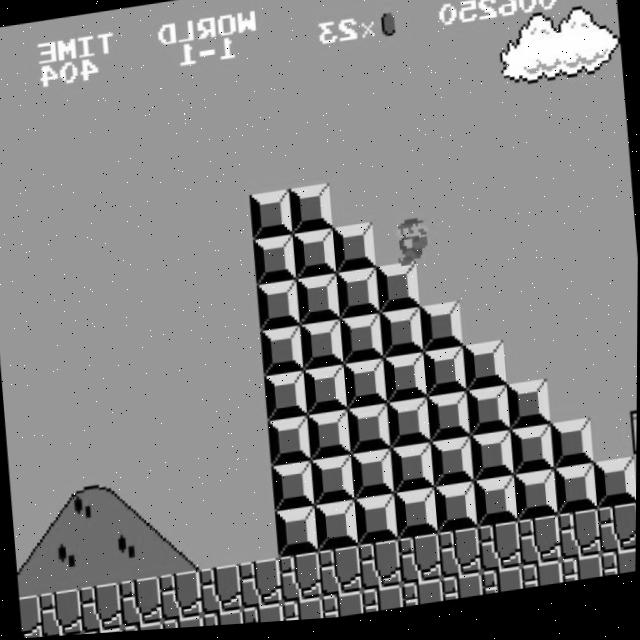11- little_mario: (392, 217, 439, 273)
15- pipe_head: (630, 417, 637, 466)
17- undestructible_block: (477, 527, 523, 579), (158, 572, 204, 624), (437, 533, 483, 584), (397, 539, 443, 590), (198, 567, 244, 618), (118, 578, 164, 629), (557, 516, 602, 568), (358, 544, 403, 596), (278, 555, 323, 607), (79, 583, 124, 635), (38, 588, 84, 638), (517, 522, 562, 573), (318, 550, 363, 601), (238, 561, 283, 612), (597, 510, 637, 562), (521, 567, 564, 596), (441, 578, 484, 607), (481, 573, 525, 601), (561, 562, 604, 590), (401, 584, 444, 612), (361, 590, 404, 618), (321, 595, 364, 623), (19, 594, 44, 639), (600, 556, 637, 584), (281, 601, 324, 625), (241, 606, 284, 627), (202, 612, 245, 629), (162, 617, 205, 631), (122, 623, 165, 633)
9- hard_block: (553, 470, 599, 522), (310, 459, 356, 511), (255, 283, 301, 335), (513, 476, 559, 527), (426, 397, 472, 448), (350, 454, 396, 505), (295, 278, 341, 329), (299, 323, 345, 374), (270, 465, 316, 516), (510, 431, 555, 483), (423, 351, 468, 403), (430, 442, 475, 494), (434, 487, 479, 539), (375, 266, 420, 318), (354, 498, 399, 550), (292, 232, 337, 284), (466, 392, 512, 442), (386, 403, 432, 453), (339, 318, 385, 368), (550, 426, 595, 477), (463, 346, 508, 397), (470, 437, 515, 488), (474, 482, 519, 533), (379, 312, 424, 363), (383, 357, 428, 408), (390, 448, 435, 499), (394, 493, 439, 544), (332, 227, 377, 278), (336, 272, 381, 323), (343, 363, 388, 414), (347, 408, 392, 459), (288, 187, 333, 238), (303, 368, 348, 419), (314, 504, 359, 555), (252, 238, 297, 289), (263, 374, 308, 425), (274, 510, 319, 561), (593, 464, 637, 516), (506, 386, 551, 436), (419, 307, 464, 357), (307, 414, 352, 464), (248, 193, 293, 243), (259, 329, 304, 379), (267, 420, 312, 470)
